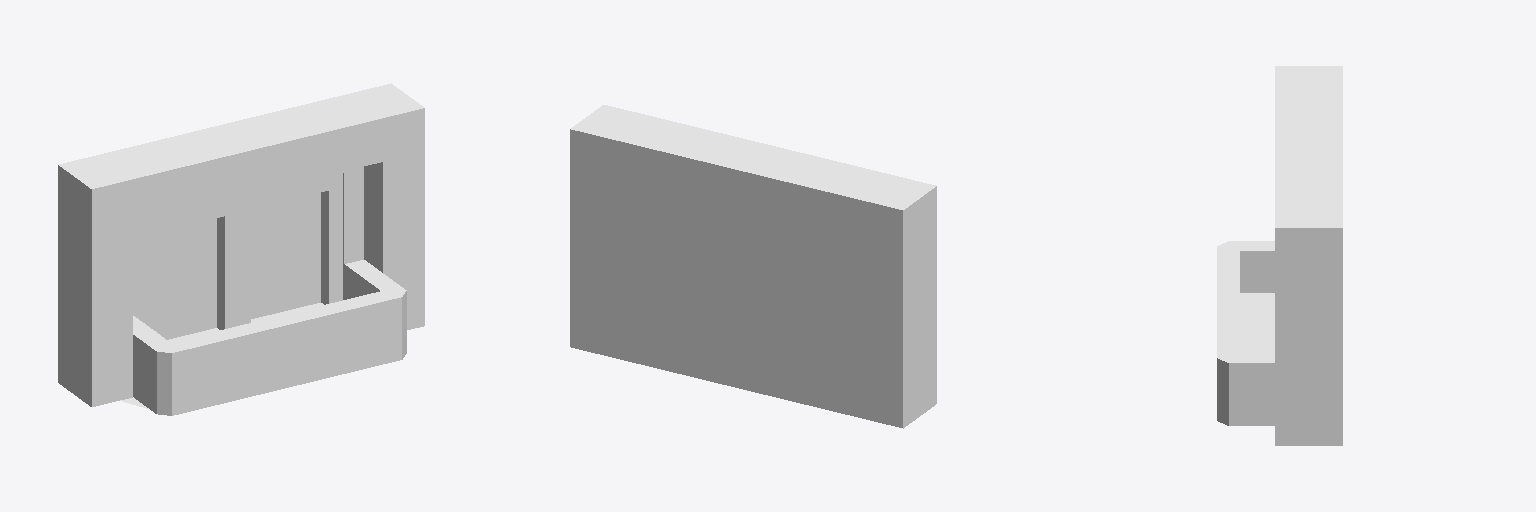
File: balcony.obj
3 renders of one model, left to right at view 1: azimuth 30°, elevation 25°; view 2: azimuth 150°, elevation 25°; view 3: azimuth 270°, elevation 25°, orthographic.
Visible parts, largest first — view 1: building-window-balcony; view 2: building-window-balcony; view 3: building-window-balcony.
Boxes of the visible parts, <box> form: building-window-balcony: <box>58,83,424,415</box>; building-window-balcony: <box>570,105,936,428</box>; building-window-balcony: <box>1217,66,1342,445</box>.
Bounding box in the file's own units: 1 × 0.625 × 0.3251.